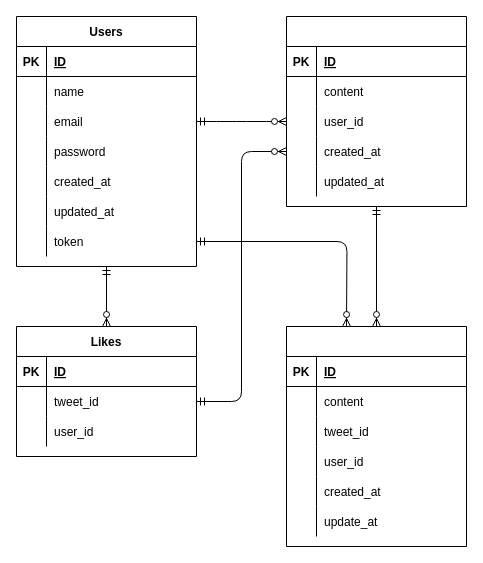
The diagram is 483 pixels wide and 563 high, and some of its shapes have lost their labels. The box of each missing label's shape, as (x1, y1, x2, y2) in pixels:
Comments: (286, 326, 466, 546)
Tweets: (286, 16, 466, 206)
